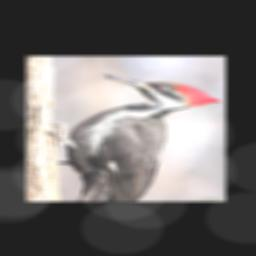Woodpecker: (49, 72, 221, 201)
